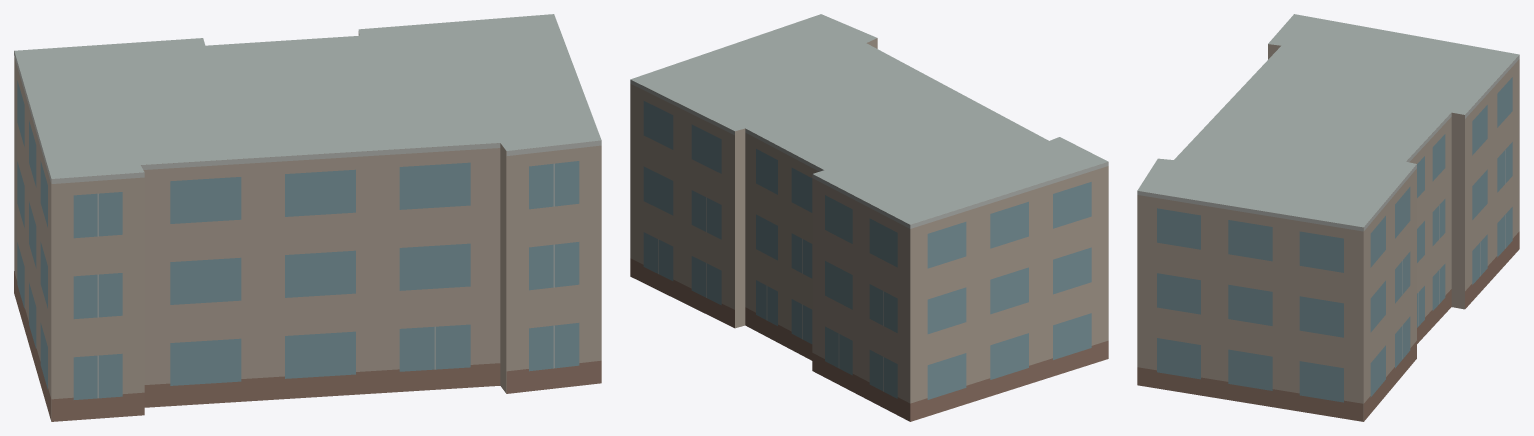
File: survey-upis-32839570.glb
The picture shows the model from 3 angles, left to right: view 1: azimuth 30°, elevation 25°; view 2: azimuth 150°, elevation 25°; view 3: azimuth 270°, elevation 25°; orthographic projection. The views are drawn at different scales.
Parts seen in each view (by area): view 1: survey-upis-32839570.tmp; view 2: survey-upis-32839570.tmp; view 3: survey-upis-32839570.tmp.
Boxes of the visible parts, left/top/right/bottom form: survey-upis-32839570.tmp: left=14, top=14, right=601, bottom=421; survey-upis-32839570.tmp: left=630, top=14, right=1108, bottom=421; survey-upis-32839570.tmp: left=1137, top=14, right=1519, bottom=421.
Bounding box in the file's own units: 27.36 × 11.62 × 20.72.
